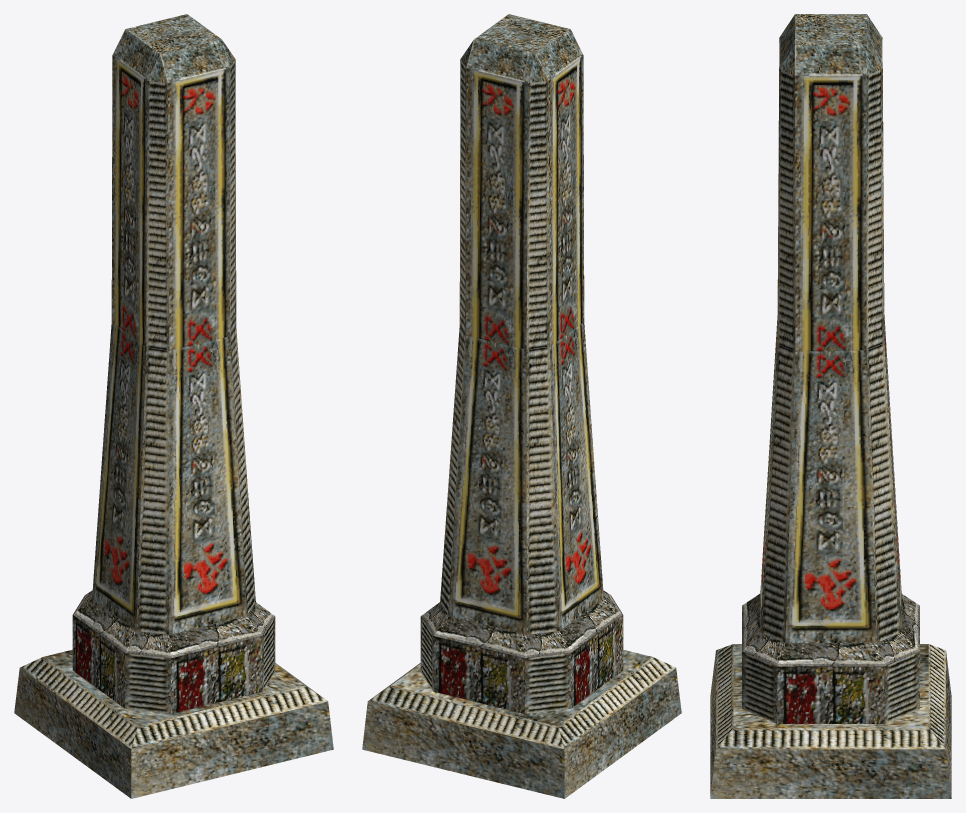
File: Totem_Small.fbx
3 renders of one model, left to right at view 1: azimuth 30°, elevation 25°; view 2: azimuth 150°, elevation 25°; view 3: azimuth 270°, elevation 25°, orthographic. The views are drawn at different scales.
Parts seen in each view (by area): view 1: object_2; view 2: object_2; view 3: object_2.
Boxes of the visible parts, box(x1,y1,x2,y2) form: object_2: box(14, 14, 333, 798); object_2: box(362, 14, 681, 798); object_2: box(710, 14, 951, 798).
Bounding box in the file's own units: 182 × 600 × 183.
